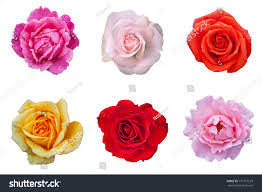lale: (97, 96, 175, 170), (177, 6, 258, 76), (11, 98, 88, 169), (99, 7, 172, 80), (10, 6, 82, 76), (184, 94, 254, 161)
